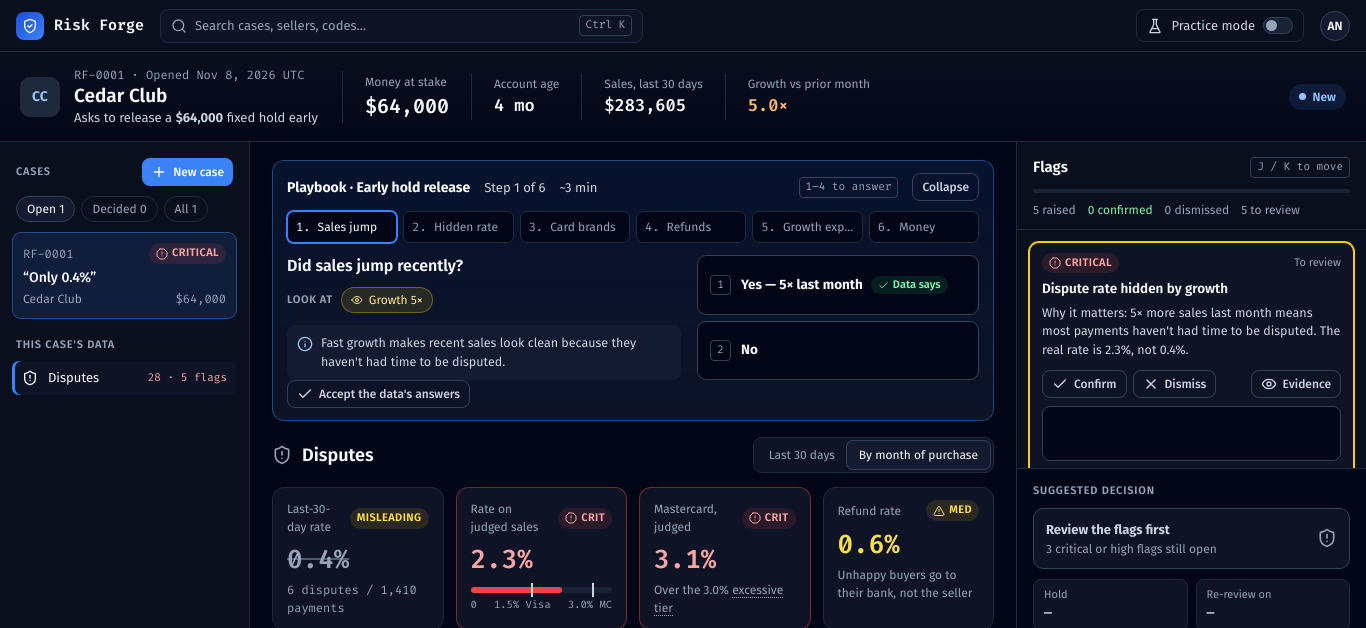
Test case: playbook in the console › answering the same step again repairs a changed flag without a new answered line
expect the element "Playbook" is shown: met, box top-left (272, 160), bottom-right (994, 421)
expect the element with class "sel" is shown: met, box top-left (1029, 242), bottom-right (1354, 468)
Type keys "11"
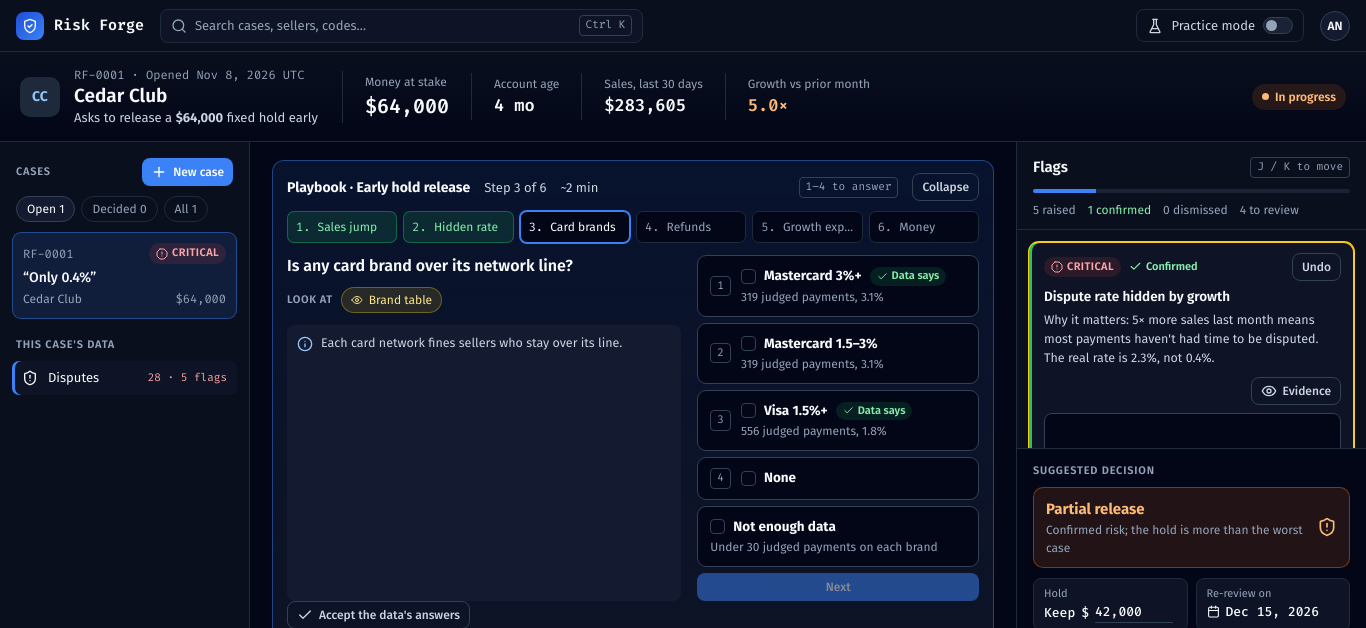
expect the text "1 confirmed" is shown: met, box top-left (1088, 201), bottom-right (1151, 219)
Click the button "Dispute rate hidden by growth" at (1192, 297), box top-left (1044, 287), bottom-right (1341, 307)
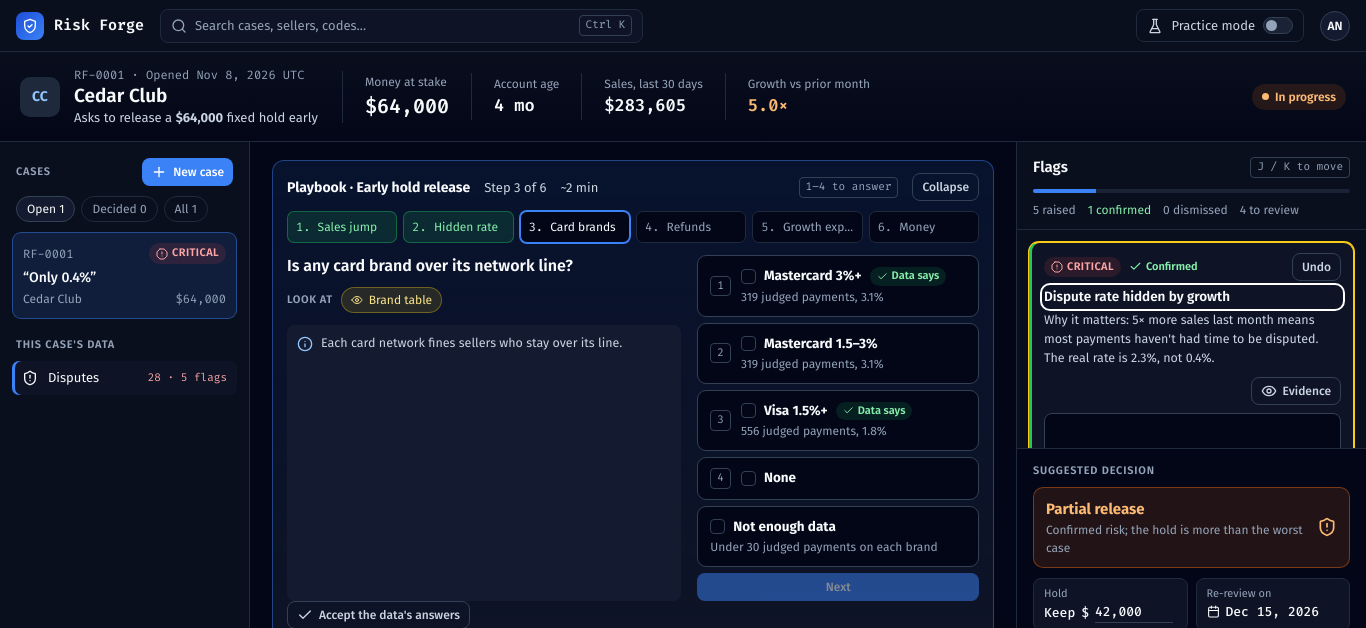
Type keys "d"
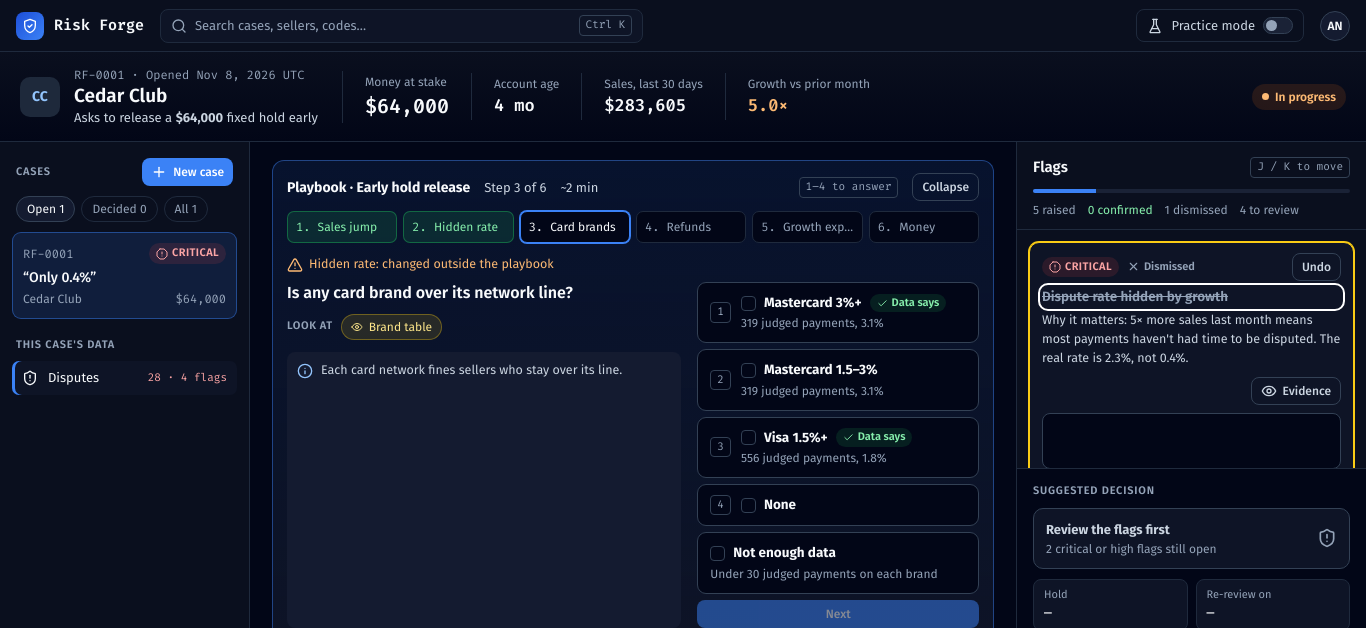
expect the text "Hidden rate: changed outside the playbook" is shown: met, box top-left (287, 256), bottom-right (554, 273)
Click the button "Hidden rate" at (466, 227), box top-left (434, 218), bottom-right (498, 236)
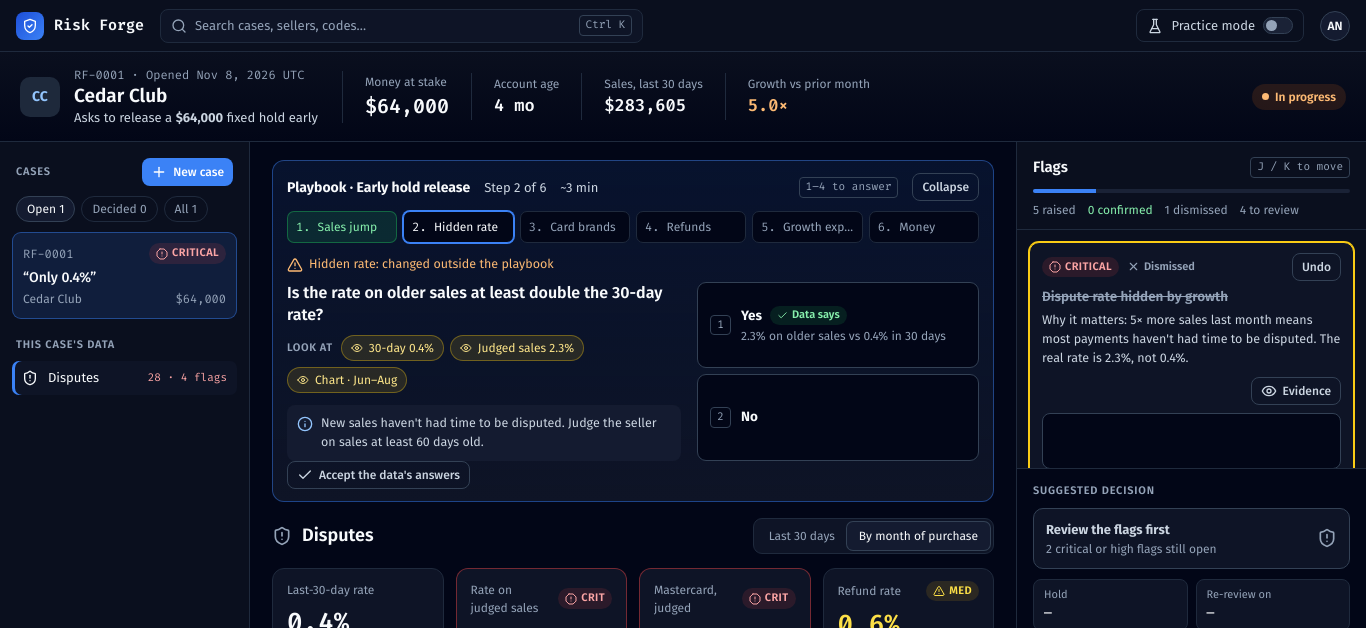
Type keys "1"
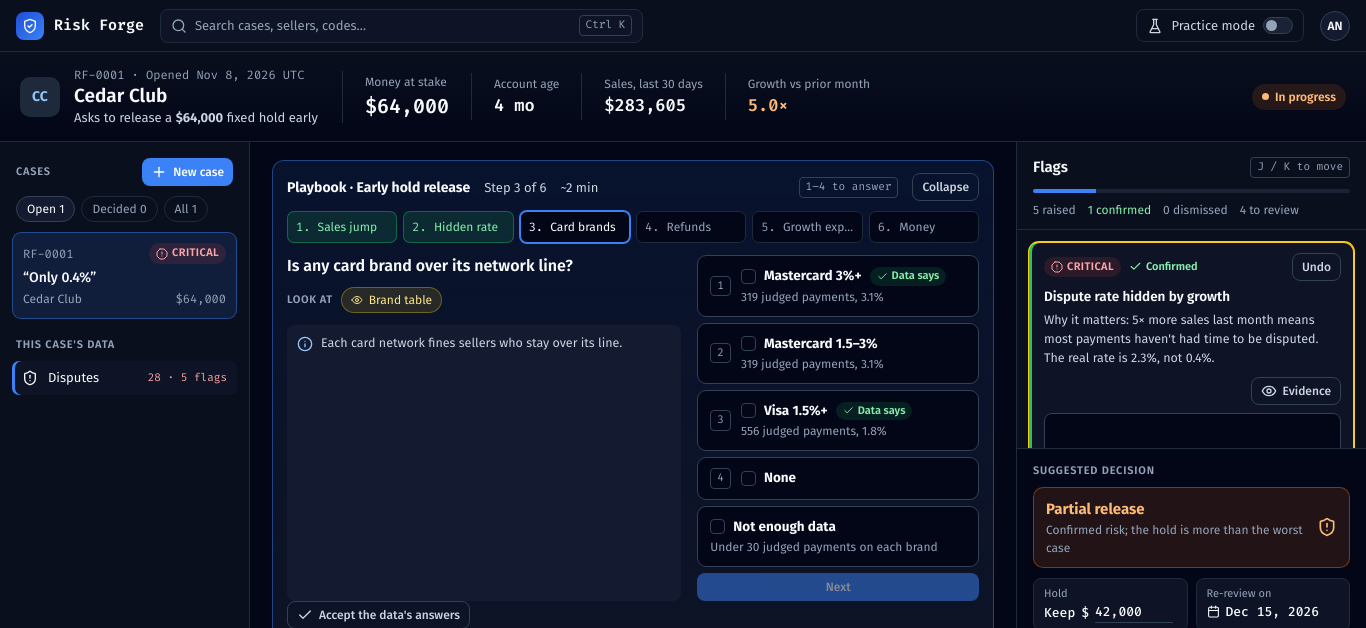
expect the text "1 confirmed" is shown: met, box top-left (1088, 201), bottom-right (1151, 219)
expect the text "changed outside the playbook" is gone: met
